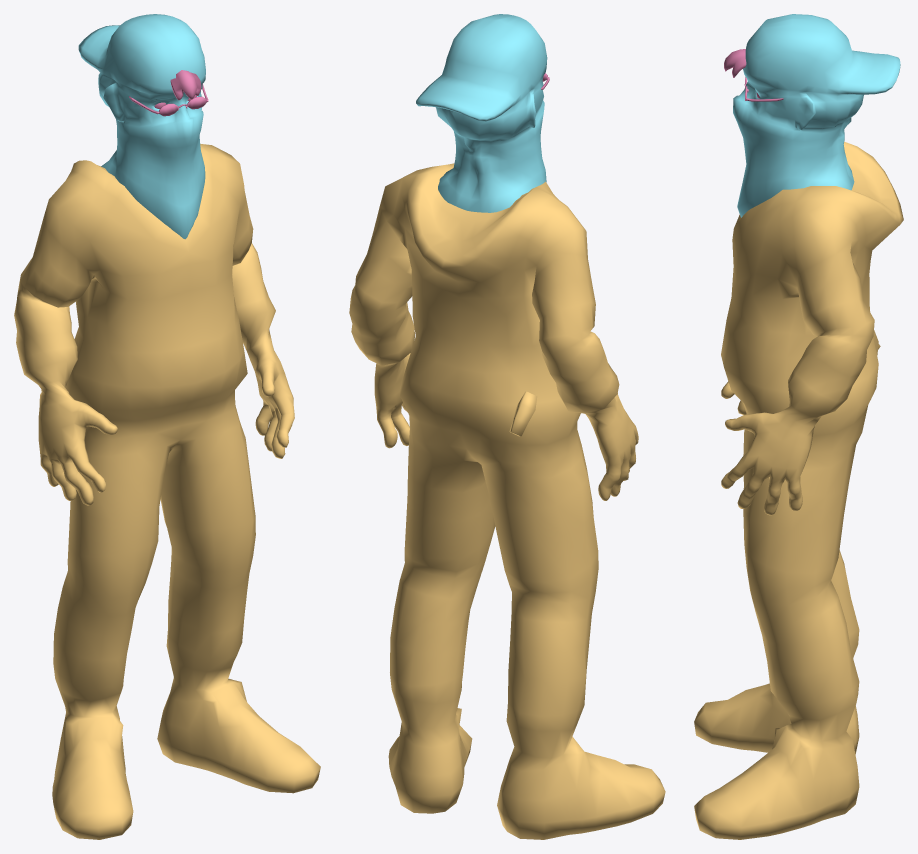
File: Thief_Insert_Test.fbx
3 renders of one model, left to right at view 1: azimuth 30°, elevation 25°; view 2: azimuth 150°, elevation 25°; view 3: azimuth 270°, elevation 25°, orthographic. The views are drawn at different scales.
Visible parts, largest first — view 1: playercharacter_rig; view 2: playercharacter_rig; view 3: playercharacter_rig.
Boxes of the visible parts, x1=… form: playercharacter_rig: x1=14, y1=14, x2=320, y2=839; playercharacter_rig: x1=349, y1=14, x2=665, y2=839; playercharacter_rig: x1=694, y1=14, x2=903, y2=839.
Bounding box in the file's own units: 0.5441 × 1.59 × 0.3956.
